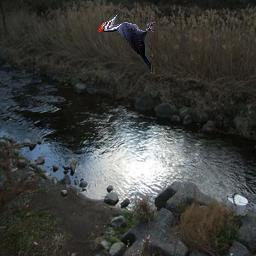Woodpecker: (99, 13, 156, 75)
